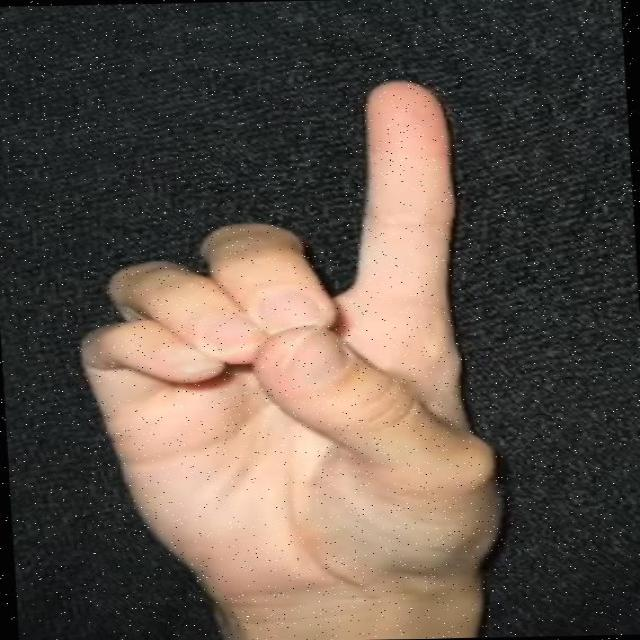D: (49, 60, 525, 602)
